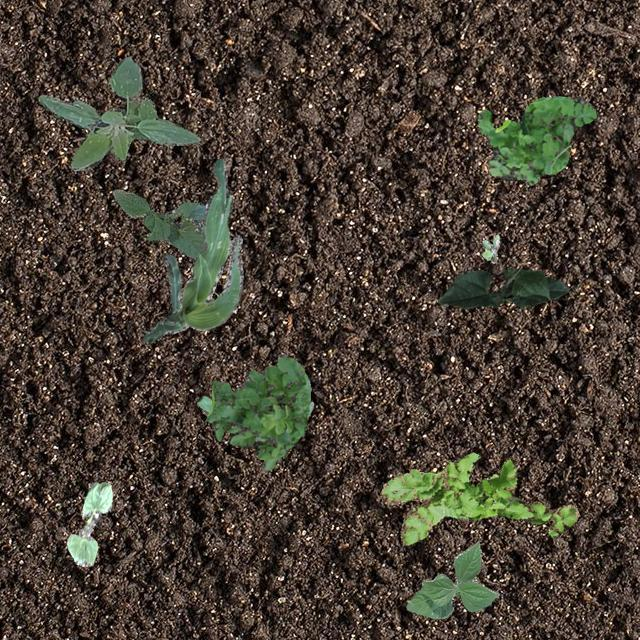crop: (142, 158, 242, 342), (406, 542, 498, 618), (112, 188, 204, 258), (438, 266, 568, 308), (196, 394, 312, 432), (66, 480, 110, 566)
weed: (38, 56, 198, 170), (381, 452, 578, 544), (203, 354, 310, 468), (476, 94, 596, 184), (481, 234, 498, 262)
